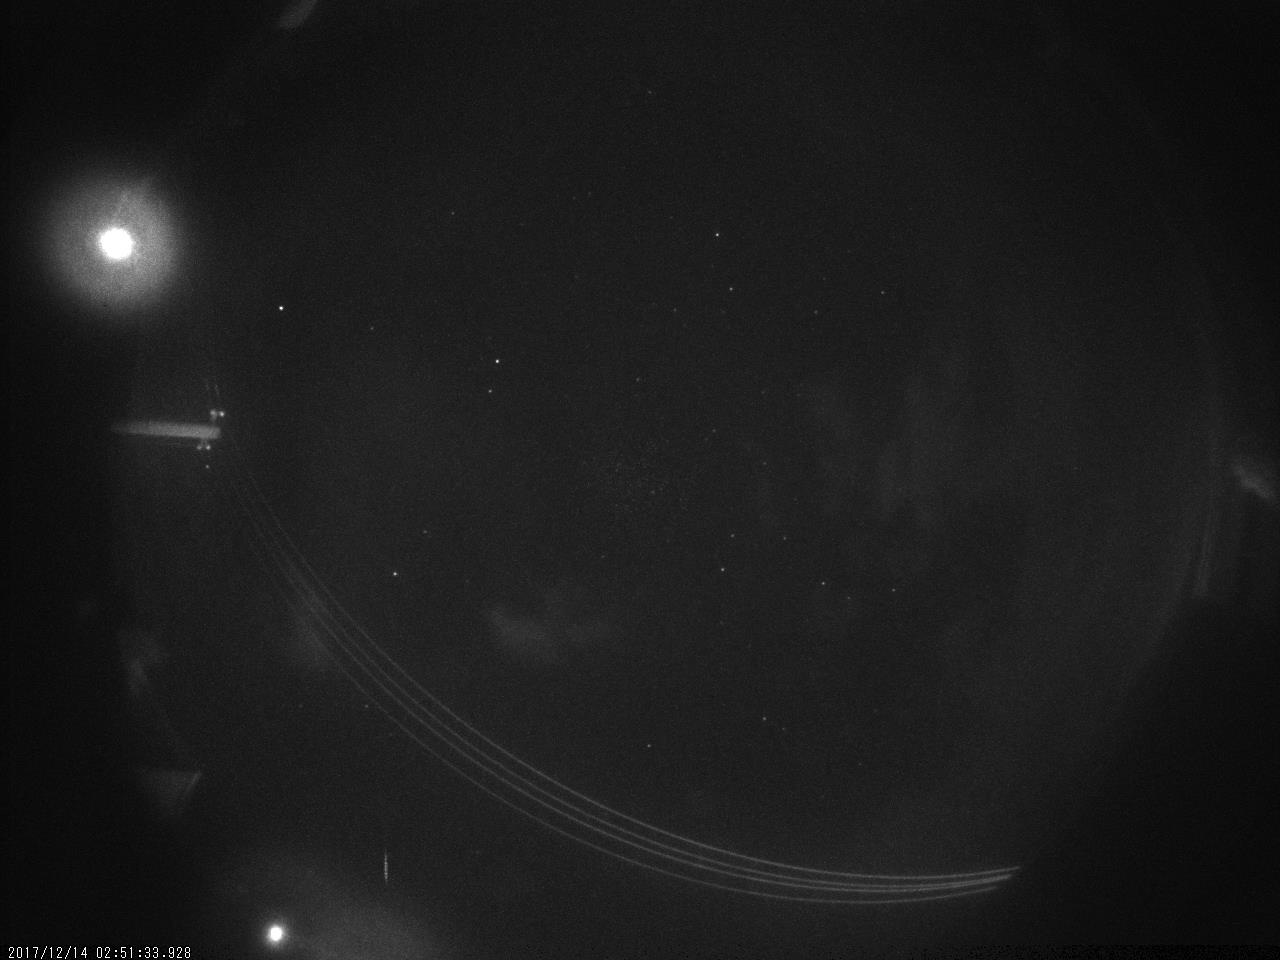meteor: (371, 839, 404, 897)
